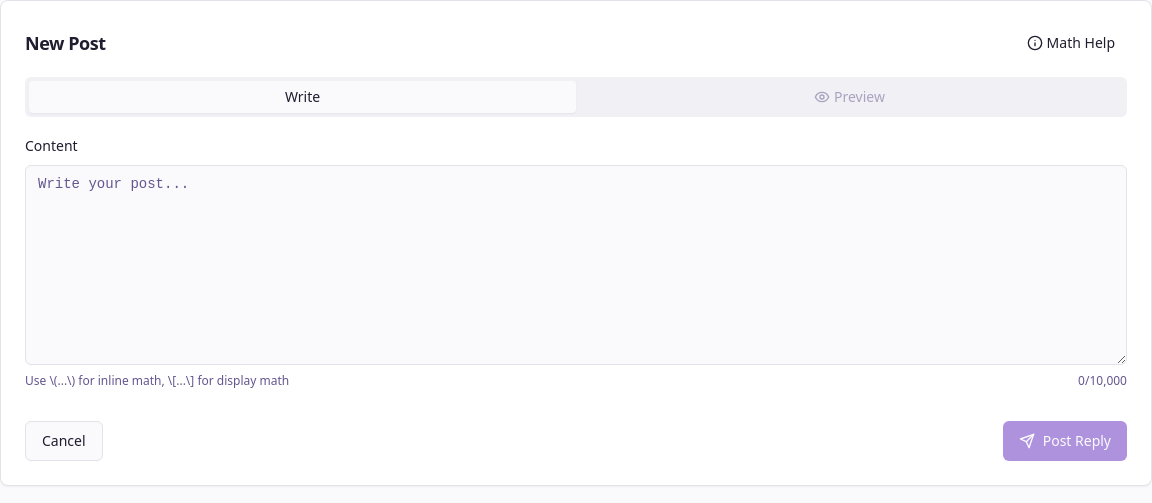
Test: PostComposer › enables submit button when content is valid
Type "Valid content" into the text box with placeholder "Write your post...". click: (576, 265)
box: [25, 165, 1127, 365]
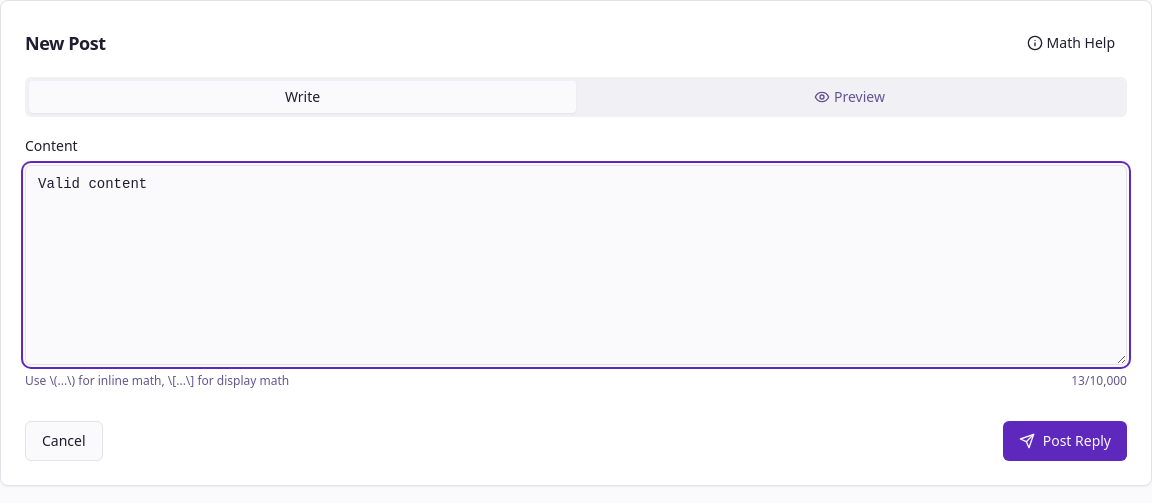
Expected: the button "Post Reply" is enabled, [1003, 421, 1127, 461]
